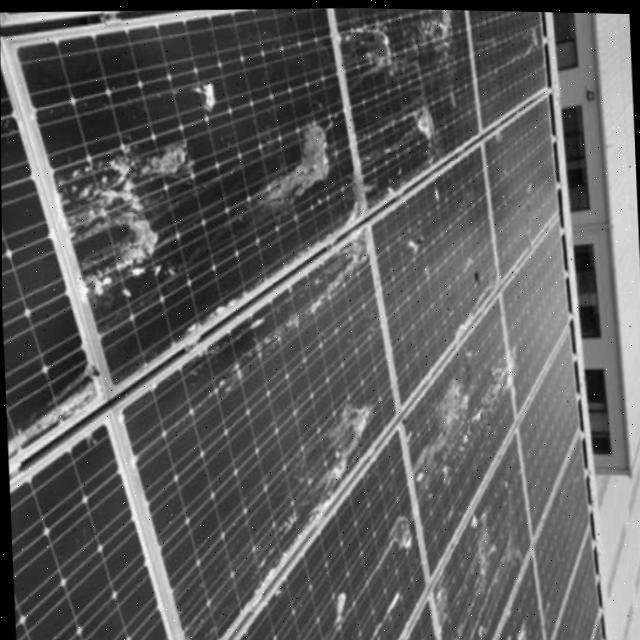Anomaly Solar Panel: (11, 5, 365, 394), (116, 226, 399, 640), (233, 419, 430, 640), (366, 139, 499, 411), (400, 291, 517, 576), (331, 6, 480, 212), (429, 424, 534, 640), (467, 8, 546, 128), (494, 547, 545, 640)
Surface Contaminant: (196, 222, 384, 407), (49, 121, 226, 297), (301, 500, 423, 640), (393, 343, 498, 493), (245, 111, 355, 226), (434, 505, 524, 640), (294, 391, 375, 512), (329, 6, 410, 78), (447, 255, 501, 344), (476, 19, 541, 72), (404, 90, 450, 160), (416, 7, 452, 78), (502, 613, 528, 640)
